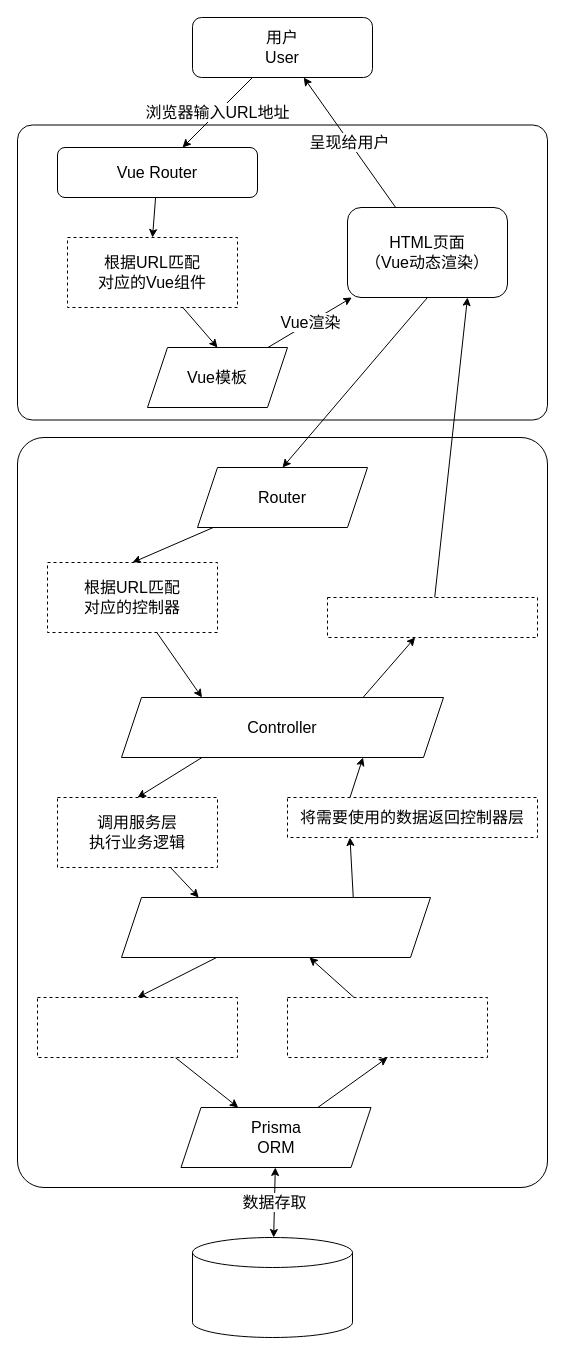
Image size: 565x1355. Some labels were removed from this diagram. Each missing label, with the box of its shape:
MariaDB 数据库存储: (192, 1236, 352, 1338)
Service: (120, 896, 430, 958)
将封装好的响应返回前端: (326, 596, 538, 638)
将数据结果返回服务层: (286, 996, 488, 1058)
调用Prisma操作数据: (36, 996, 238, 1058)
